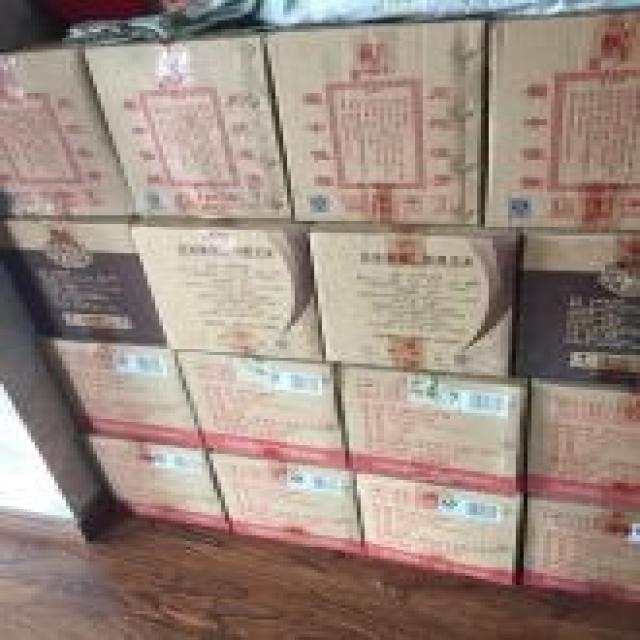box: (264, 17, 489, 224), (85, 26, 291, 218), (485, 12, 640, 230), (306, 224, 524, 378), (132, 218, 326, 361), (334, 364, 528, 495), (0, 38, 136, 215), (0, 215, 167, 343), (31, 337, 213, 451), (171, 355, 353, 468), (512, 230, 640, 381), (357, 474, 524, 588), (209, 454, 361, 559), (528, 381, 640, 512), (78, 436, 229, 532), (520, 495, 640, 605)
